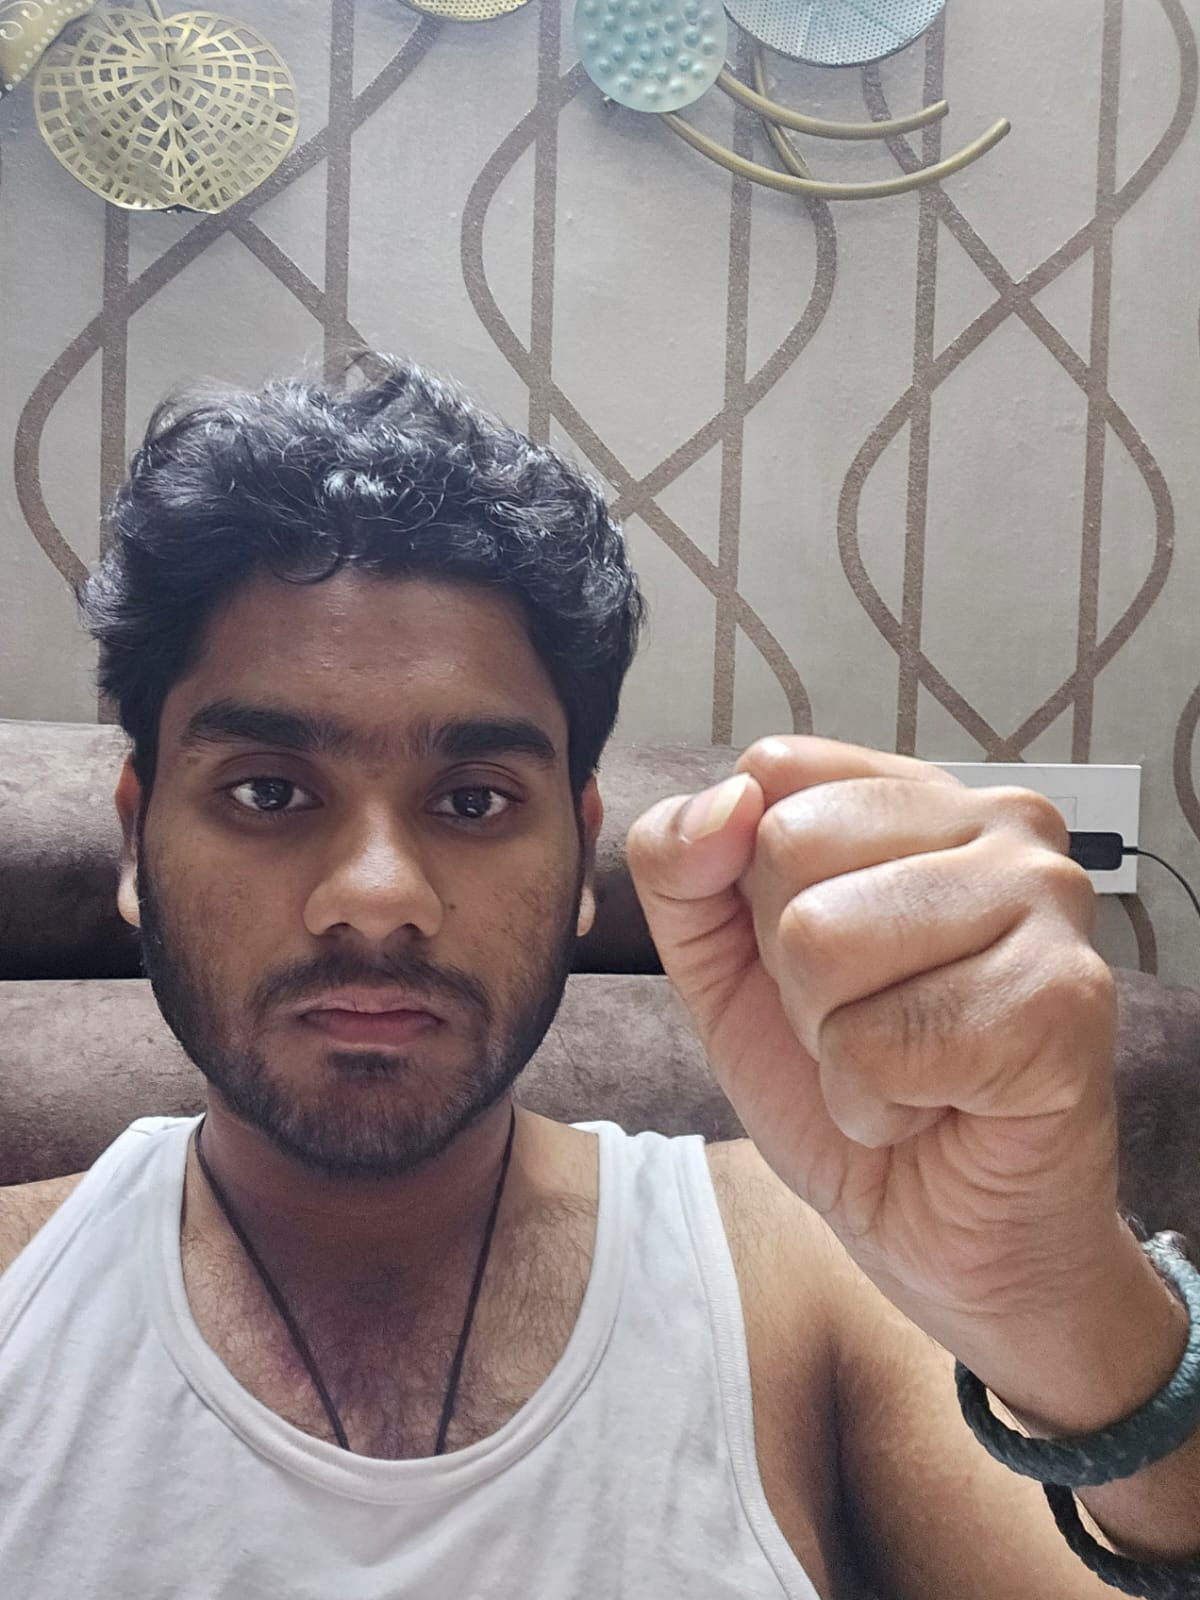yes: (621, 729, 1123, 1330)
